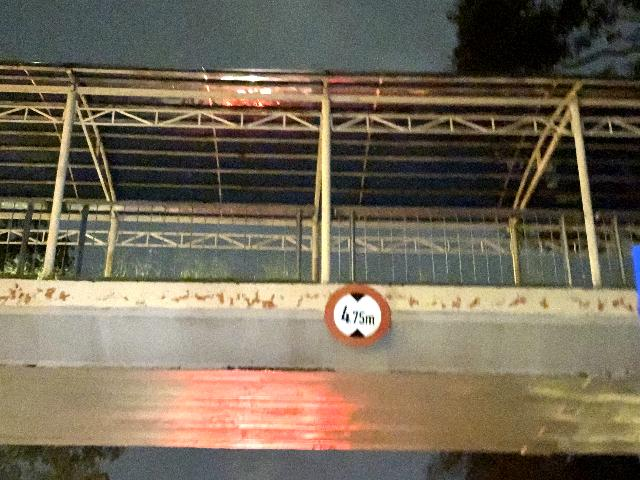han-che-chieu-cao: (325, 283, 392, 345)
